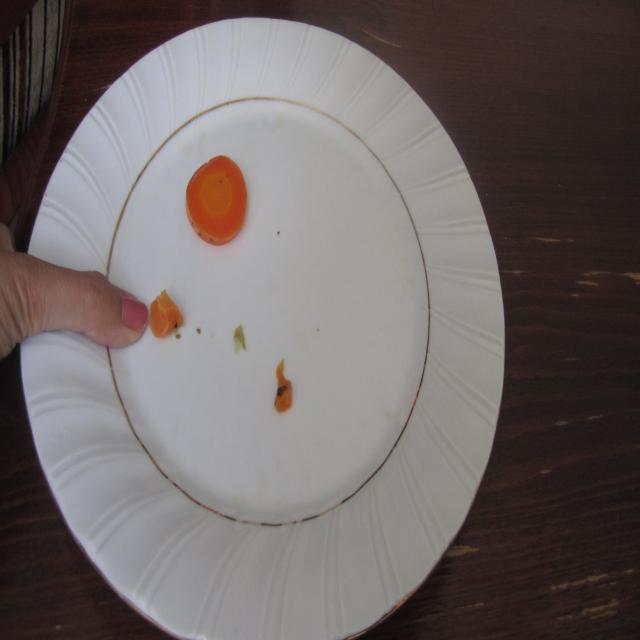Carrot: (174, 144, 252, 250), (146, 284, 186, 348)
Finger: (69, 259, 152, 353)
